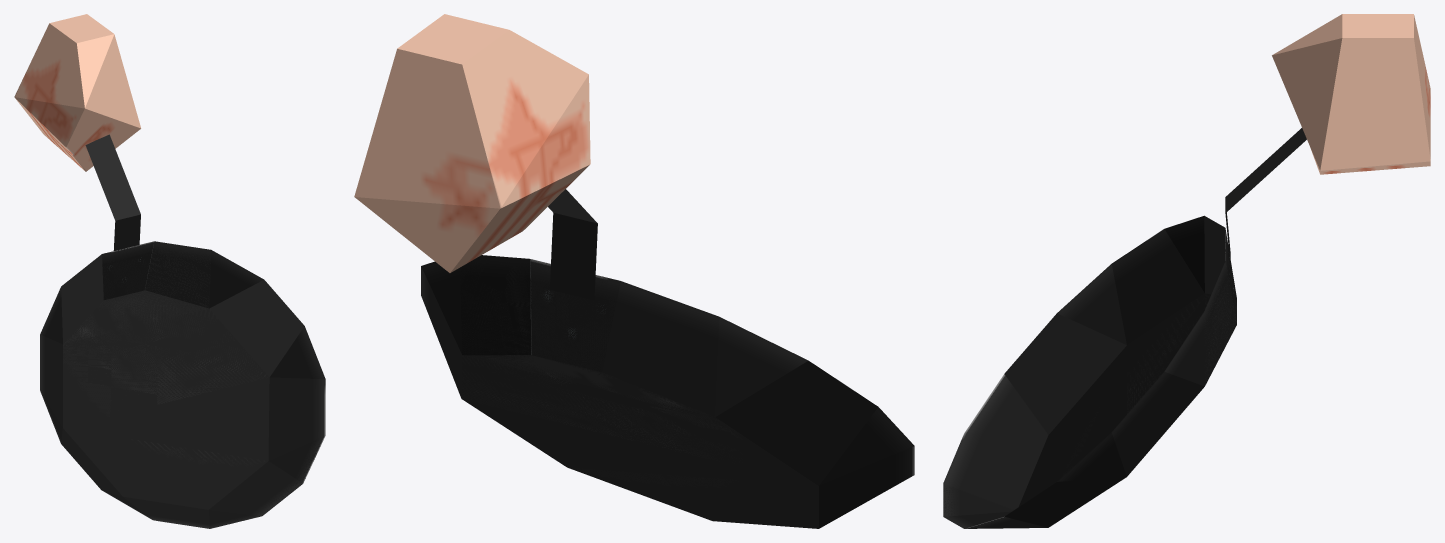
Rendered from 06_LEFT_HAND_PAN.obj.
The picture shows the model from 3 angles, left to right: view 1: azimuth 30°, elevation 25°; view 2: azimuth 150°, elevation 25°; view 3: azimuth 270°, elevation 25°; orthographic projection. The views are drawn at different scales.
Visible parts, largest first — view 1: 06_LEFT_HAND_PAN; view 2: 06_LEFT_HAND_PAN; view 3: 06_LEFT_HAND_PAN.
Part boxes in pixels (x1=…): 06_LEFT_HAND_PAN: x1=14, y1=14, x2=325, y2=528; 06_LEFT_HAND_PAN: x1=354, y1=14, x2=914, y2=528; 06_LEFT_HAND_PAN: x1=943, y1=14, x2=1430, y2=528.
Bounding box in the file's own units: 0.379 × 0.516 × 0.463.
1 material, 1 textured.
